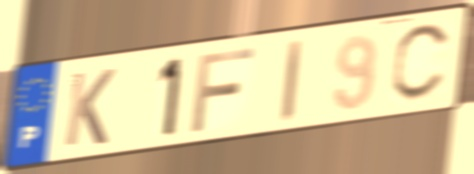1: (155, 55, 184, 139)
9: (331, 32, 383, 113)
C: (387, 20, 454, 106)
F: (188, 45, 258, 136)
I: (277, 36, 306, 124)
K: (61, 66, 119, 150)
